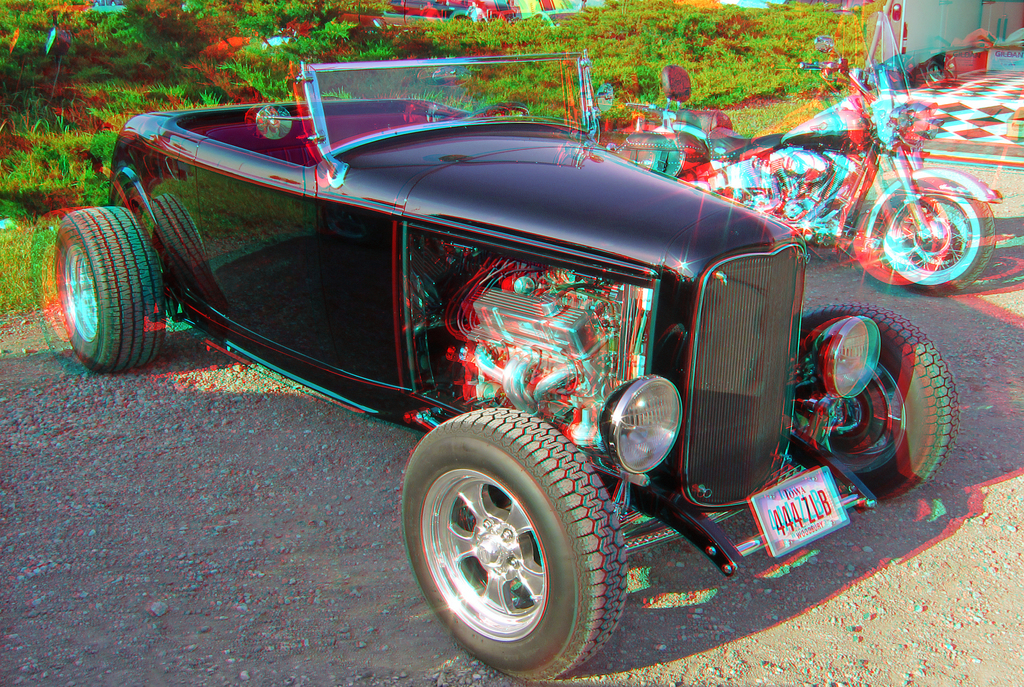Car: (87, 68, 900, 654)
